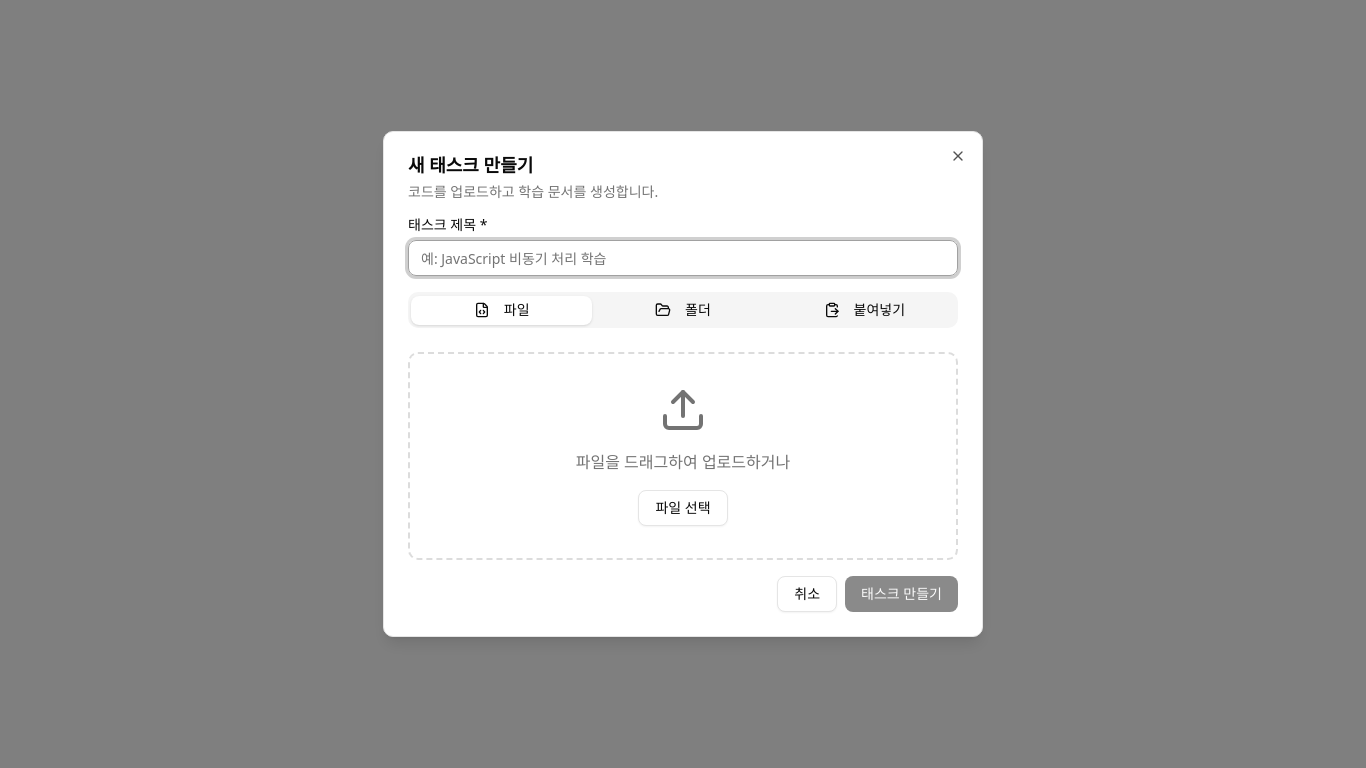
Test: CreateTaskModal › tabs navigation › switches to folder upload when folder tab clicked
What coordinates should you click on to do the following:
click the tab "폴더"
I would click on:
 (683, 310)
Its box is [592, 296, 774, 324].
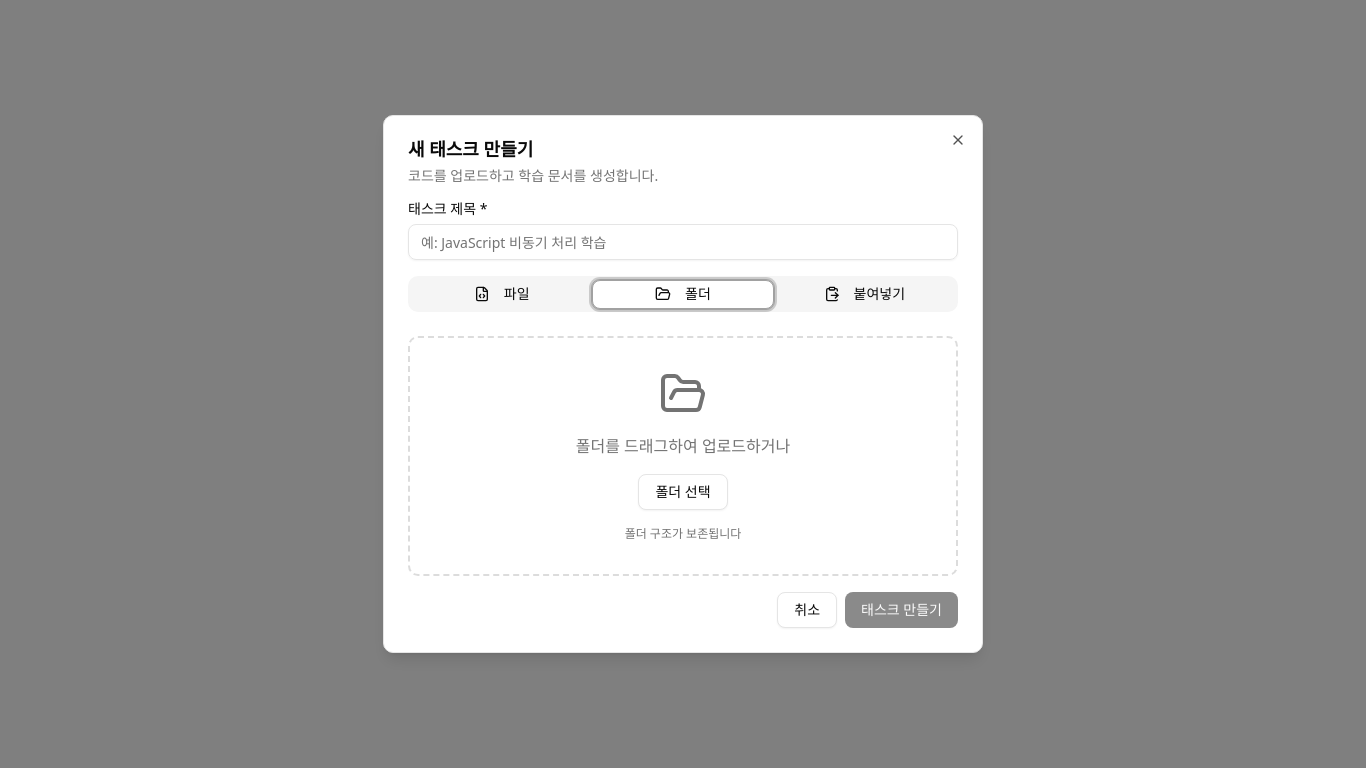
Now the element with test id "folder-drop-zone" is shown, box [408, 336, 958, 576]
